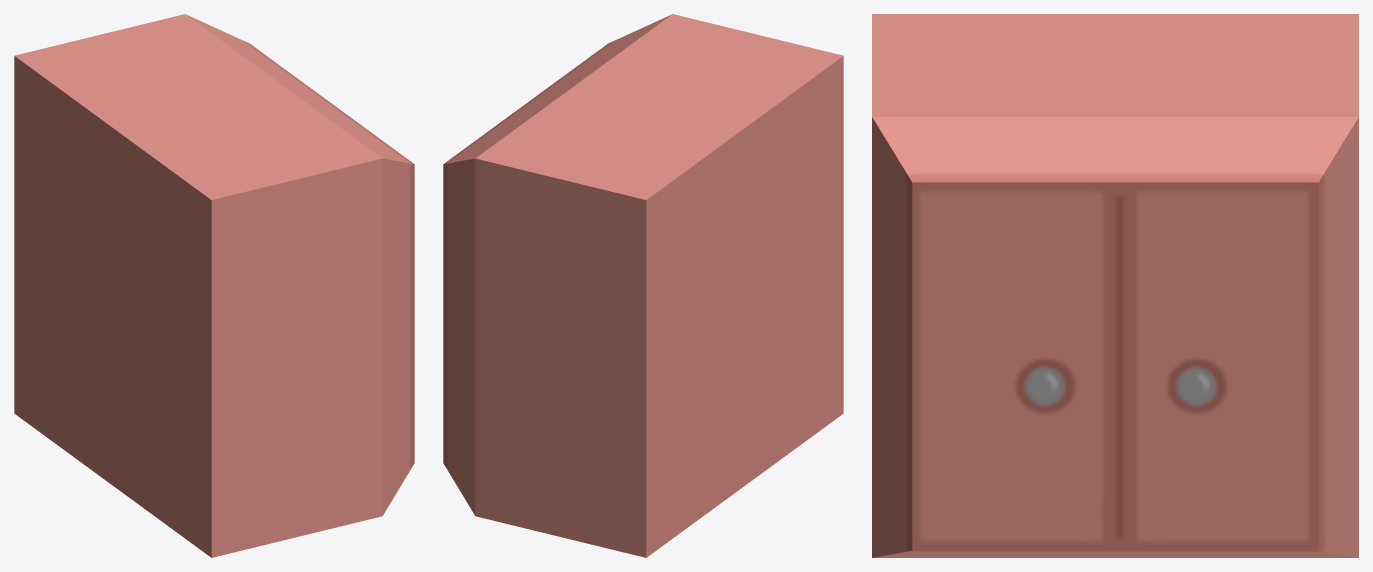
Rendered from Cabinet_Tall_01.fbx.
The picture shows the model from 3 angles, left to right: view 1: azimuth 30°, elevation 25°; view 2: azimuth 150°, elevation 25°; view 3: azimuth 270°, elevation 25°; orthographic projection. The views are drawn at different scales.
Visible parts, largest first — view 1: Cabinet_Tall_01; view 2: Cabinet_Tall_01; view 3: Cabinet_Tall_01.
Part boxes in pixels (x1,y1,x2,y2): Cabinet_Tall_01: (14, 14, 414, 557); Cabinet_Tall_01: (443, 14, 843, 557); Cabinet_Tall_01: (872, 14, 1358, 557).
Bounding box in the file's own units: 1.93 × 3 × 3.
